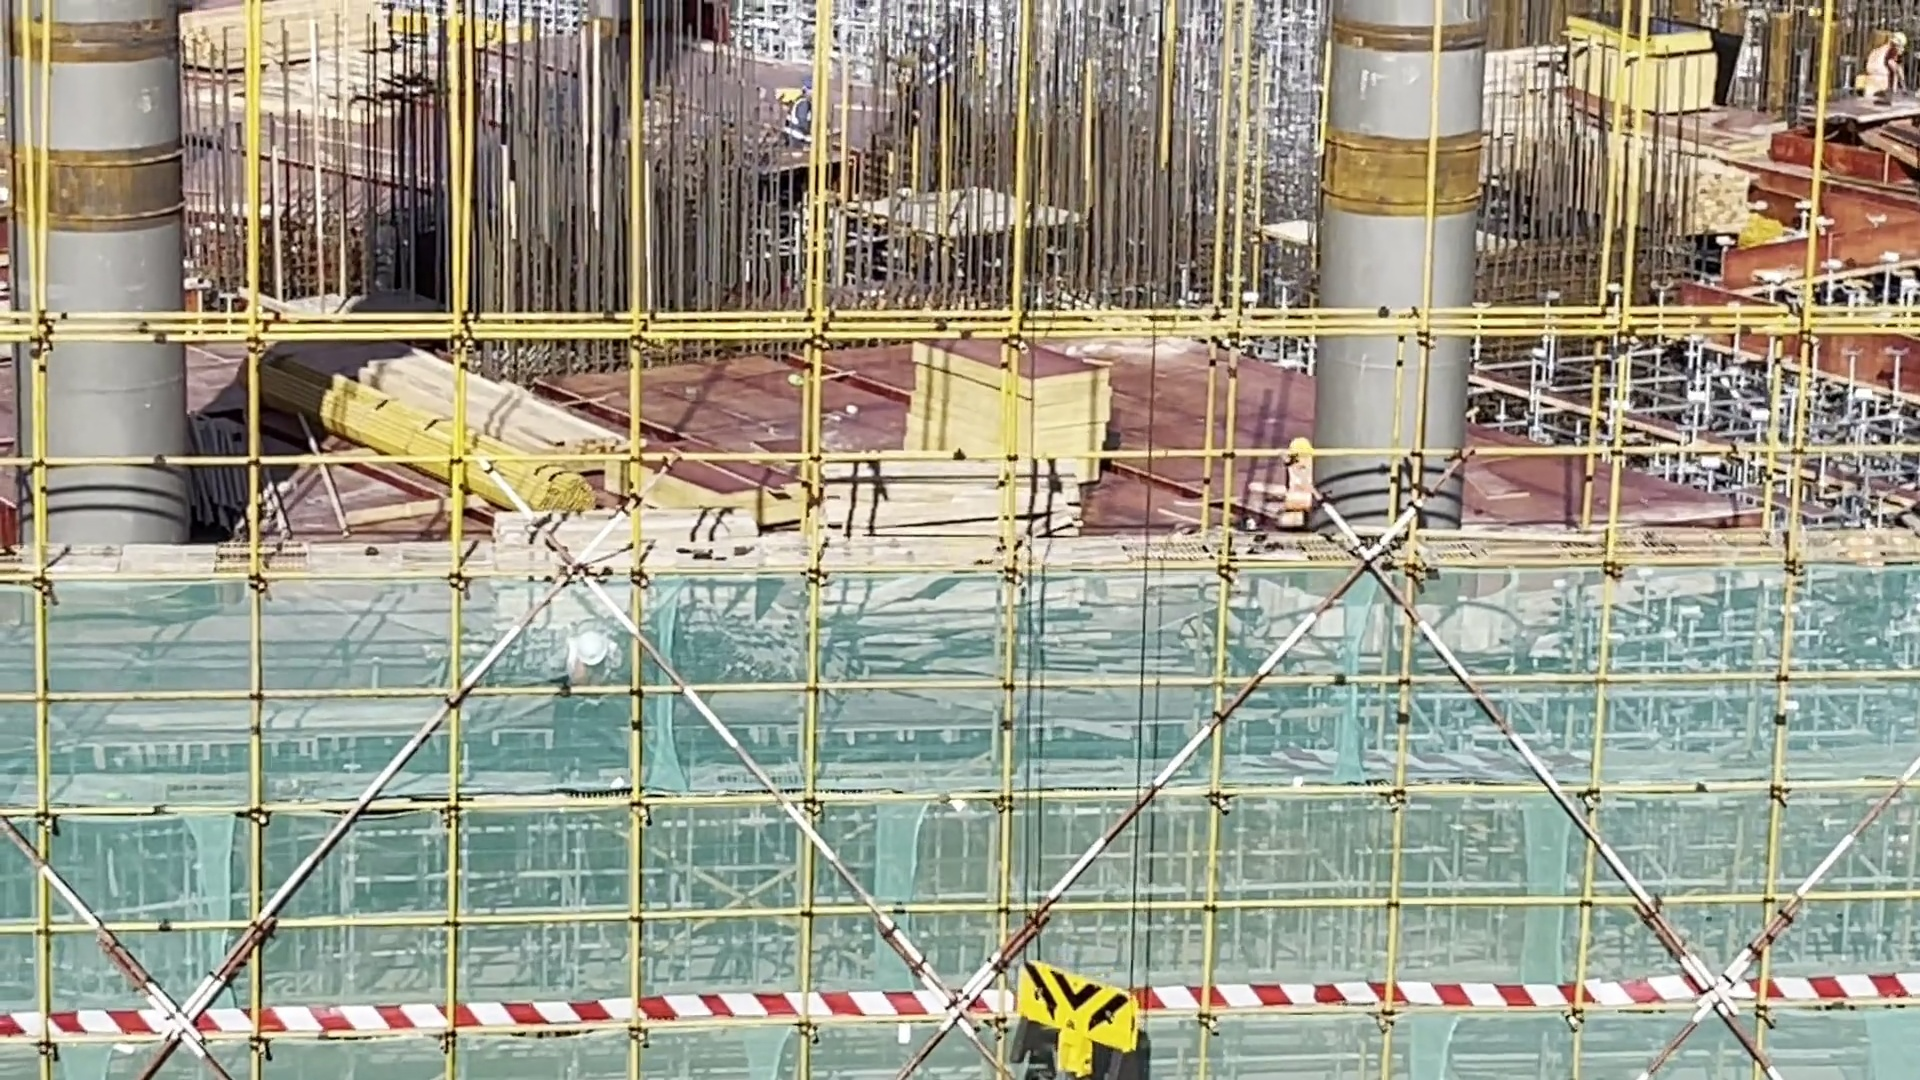board: (896, 343, 1115, 458), (1569, 6, 1717, 112)
hook: (1017, 957, 1136, 1077)
person: (1856, 24, 1913, 112), (1271, 441, 1319, 531)
wood: (331, 347, 624, 504), (178, 8, 382, 68), (1690, 166, 1752, 231)
